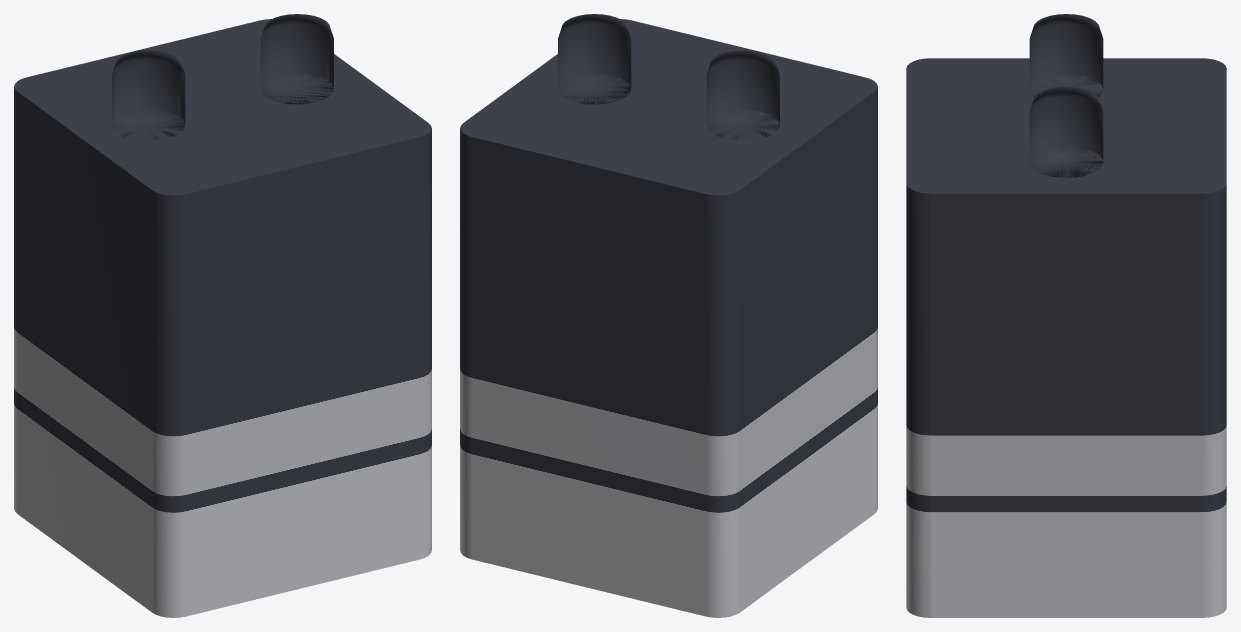
File: baterai_powercell.glb
The picture shows the model from 3 angles, left to right: view 1: azimuth 30°, elevation 25°; view 2: azimuth 150°, elevation 25°; view 3: azimuth 270°, elevation 25°; orthographic projection.
Parts seen in each view (by area): view 1: Power Cell; view 2: Power Cell; view 3: Power Cell.
Part boxes in pixels (<box>): Power Cell: <box>14,14,431,617</box>; Power Cell: <box>460,14,877,617</box>; Power Cell: <box>906,14,1226,617</box>.
Size of the model in its own units: 52 by 87 by 52.
Materials: 1 (1 with a texture image).
